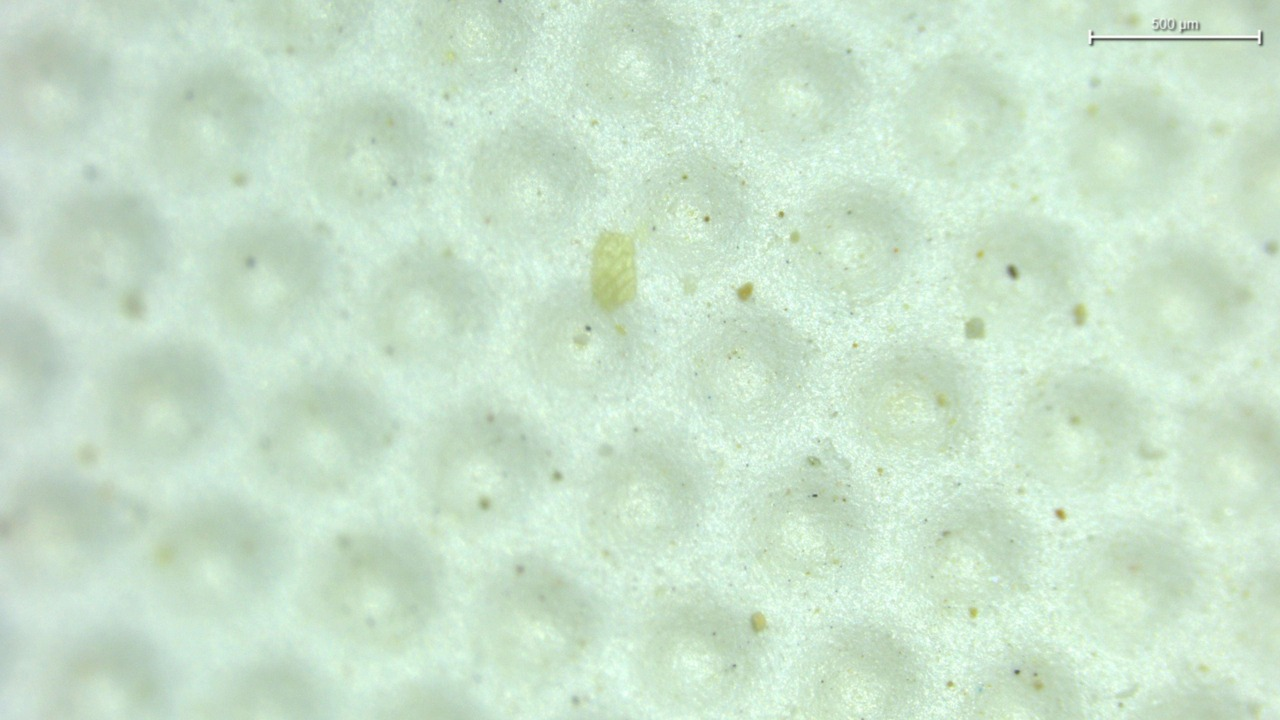microplastic_fragment: (590, 232, 636, 311)
